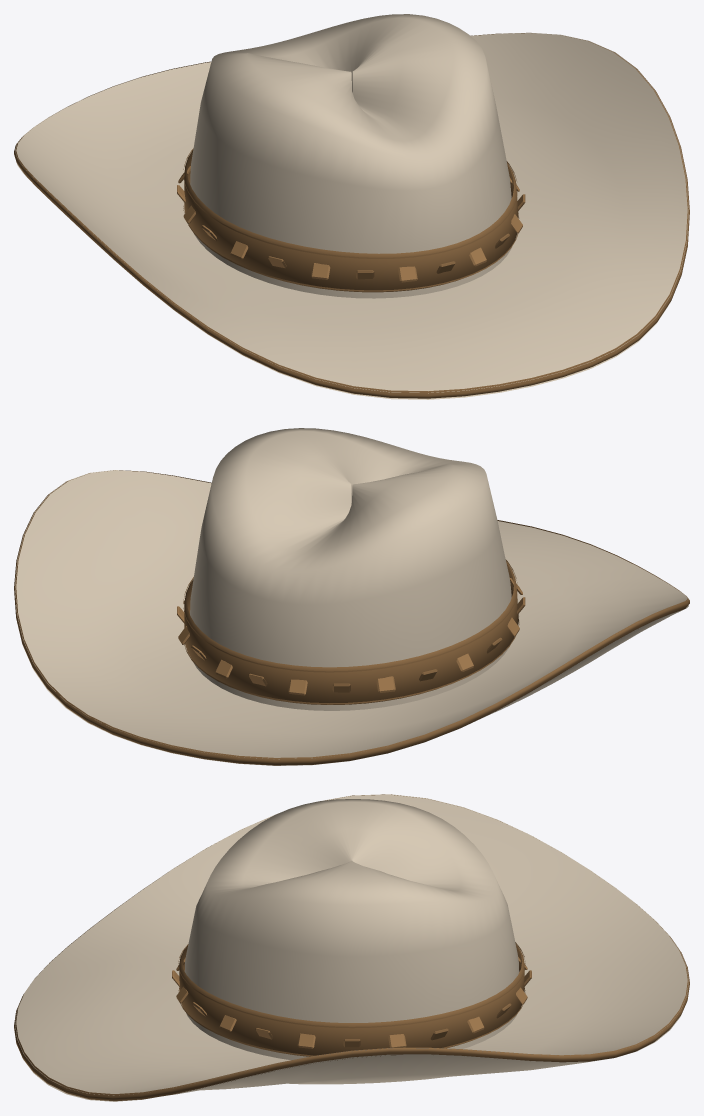
Rendered from rattler-band.glb.
3 renders of one model, top to bottom at view 1: azimuth 30°, elevation 25°; view 2: azimuth 150°, elevation 25°; view 3: azimuth 270°, elevation 25°, orthographic. The views are drawn at different scales.
Parts seen in each view (by area): view 1: Felt upper brim, Felt crown, Fitted hatband, Bound brim edge, Felt under brim, Sewn band border.001, Sewn band border; view 2: Felt upper brim, Felt crown, Fitted hatband, Bound brim edge, Felt under brim, Sewn band border.001, Sewn band border; view 3: Felt upper brim, Felt crown, Fitted hatband, Felt under brim, Bound brim edge, Sewn band border.001.
Boxes of the visible parts, x1=… form: Felt upper brim: x1=15, y1=32, x2=688, y2=393; Felt crown: x1=190, y1=14, x2=511, y2=298; Fitted hatband: x1=184, y1=150, x2=518, y2=292; Bound brim edge: x1=14, y1=33, x2=689, y2=398; Felt under brim: x1=17, y1=163, x2=670, y2=399; Sewn band border.001: x1=183, y1=148, x2=517, y2=258; Sewn band border: x1=183, y1=206, x2=519, y2=291; Felt upper brim: x1=15, y1=470, x2=688, y2=759; Felt crown: x1=190, y1=428, x2=511, y2=710; Fitted hatband: x1=184, y1=561, x2=518, y2=704; Bound brim edge: x1=14, y1=470, x2=689, y2=765; Felt under brim: x1=23, y1=605, x2=688, y2=765; Sewn band border.001: x1=183, y1=559, x2=517, y2=672; Sewn band border: x1=184, y1=620, x2=519, y2=704; Felt upper brim: x1=15, y1=794, x2=688, y2=1095; Felt crown: x1=184, y1=799, x2=519, y2=1060; Fitted hatband: x1=179, y1=944, x2=524, y2=1056; Felt under brim: x1=23, y1=1007, x2=684, y2=1101; Bound brim edge: x1=14, y1=794, x2=689, y2=1101; Sewn band border.001: x1=178, y1=942, x2=525, y2=1028.
Bounding box in the file's own units: 0.3571 × 0.1213 × 0.3932.
